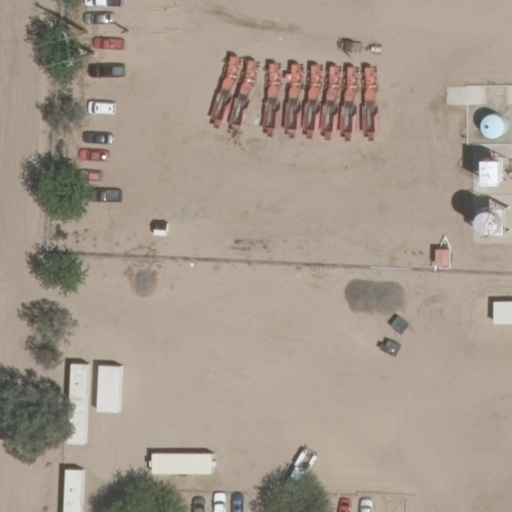DT: (53, 22, 98, 72)
